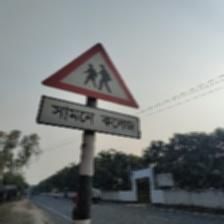College-in-front: (39, 8, 171, 157)
